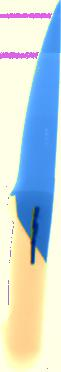Knife: (2, 1, 60, 365)
